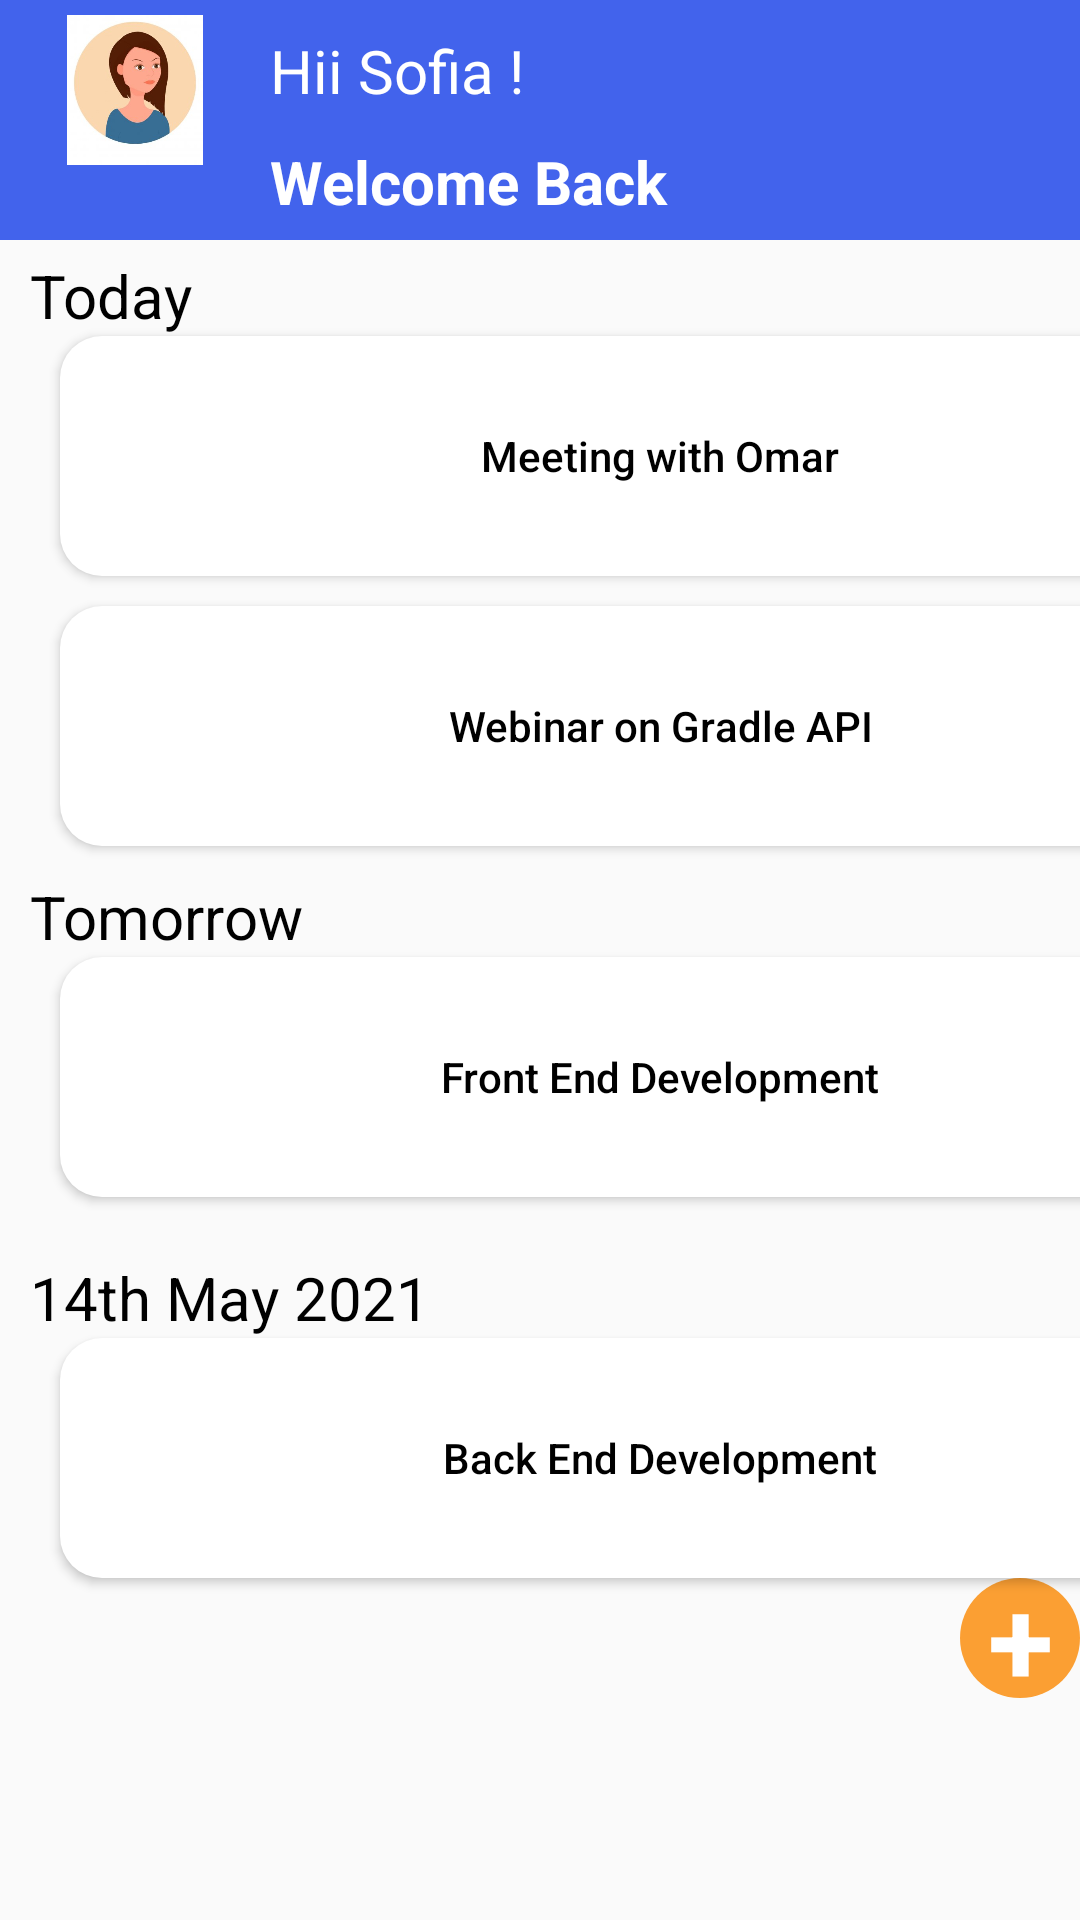

Point at icon controls on the screen. Image size 1080px x 1920px, points as (x=x, y=y).
girl: (x=135, y=90)
